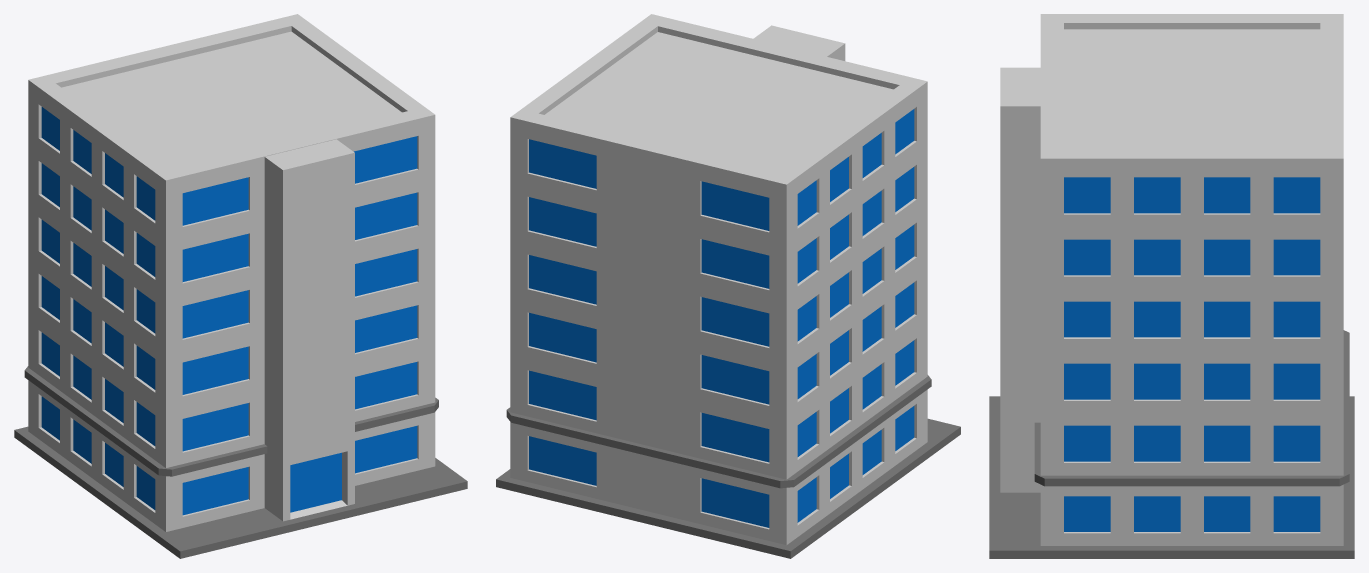
File: High building 2.fbx
The picture shows the model from 3 angles, left to right: view 1: azimuth 30°, elevation 25°; view 2: azimuth 150°, elevation 25°; view 3: azimuth 270°, elevation 25°; orthographic projection. The views are drawn at different scales.
Visible parts, largest first — view 1: Building; view 2: Building; view 3: Building.
Part boxes in pixels (x1,y1,x2,y2): Building: (14, 14, 467, 558); Building: (496, 14, 960, 558); Building: (989, 14, 1354, 558).
Size of the model in its own units: 800 by 955 by 800.
